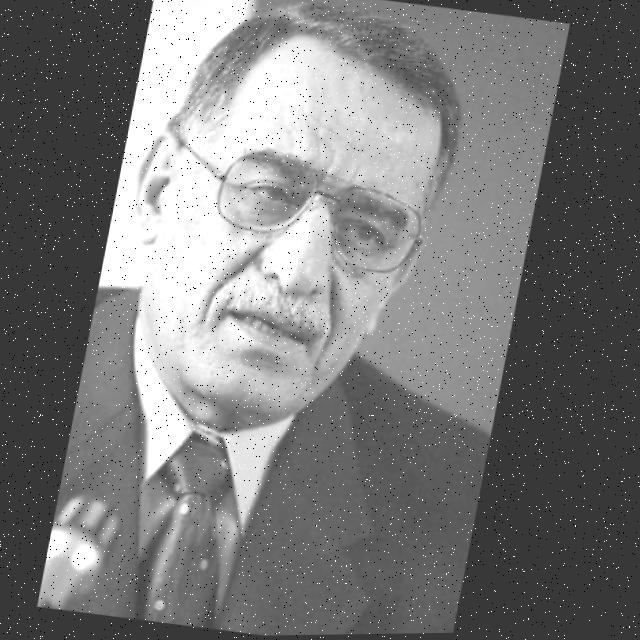face: (104, 9, 476, 442)
